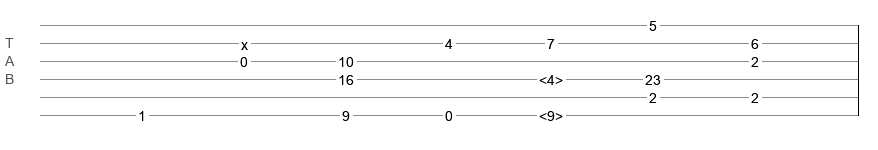0: (240, 54, 248, 64), (445, 108, 453, 118)
1: (138, 108, 146, 118)
10: (338, 54, 354, 64)
16: (338, 72, 354, 82)
2: (649, 90, 657, 100), (751, 90, 759, 100), (751, 54, 759, 64)
23: (645, 72, 661, 82)
4: (445, 36, 453, 46)
5: (649, 18, 657, 28)
6: (751, 36, 759, 46)
7: (547, 36, 555, 46)
9: (342, 108, 350, 118)
harmonic: (539, 72, 563, 82), (539, 108, 563, 118)
x: (241, 37, 248, 45)
